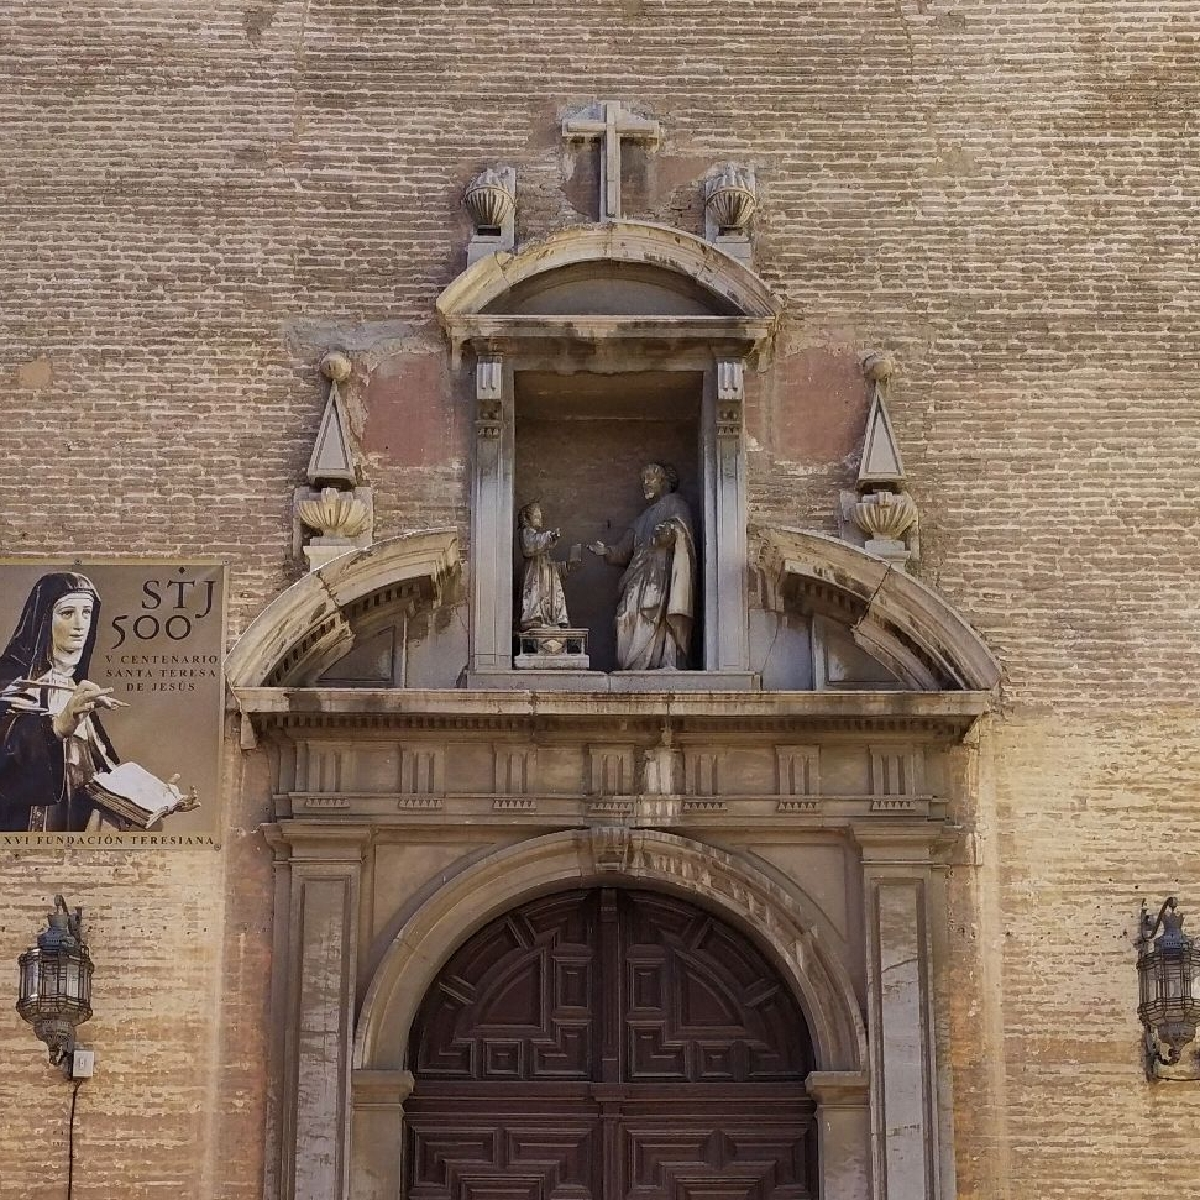arco-medio-punto: (377, 845, 851, 1132)
fronton-curvo: (435, 221, 802, 355)
fronton-partido: (245, 509, 1014, 733)
vano-adintelado: (462, 340, 753, 674)
